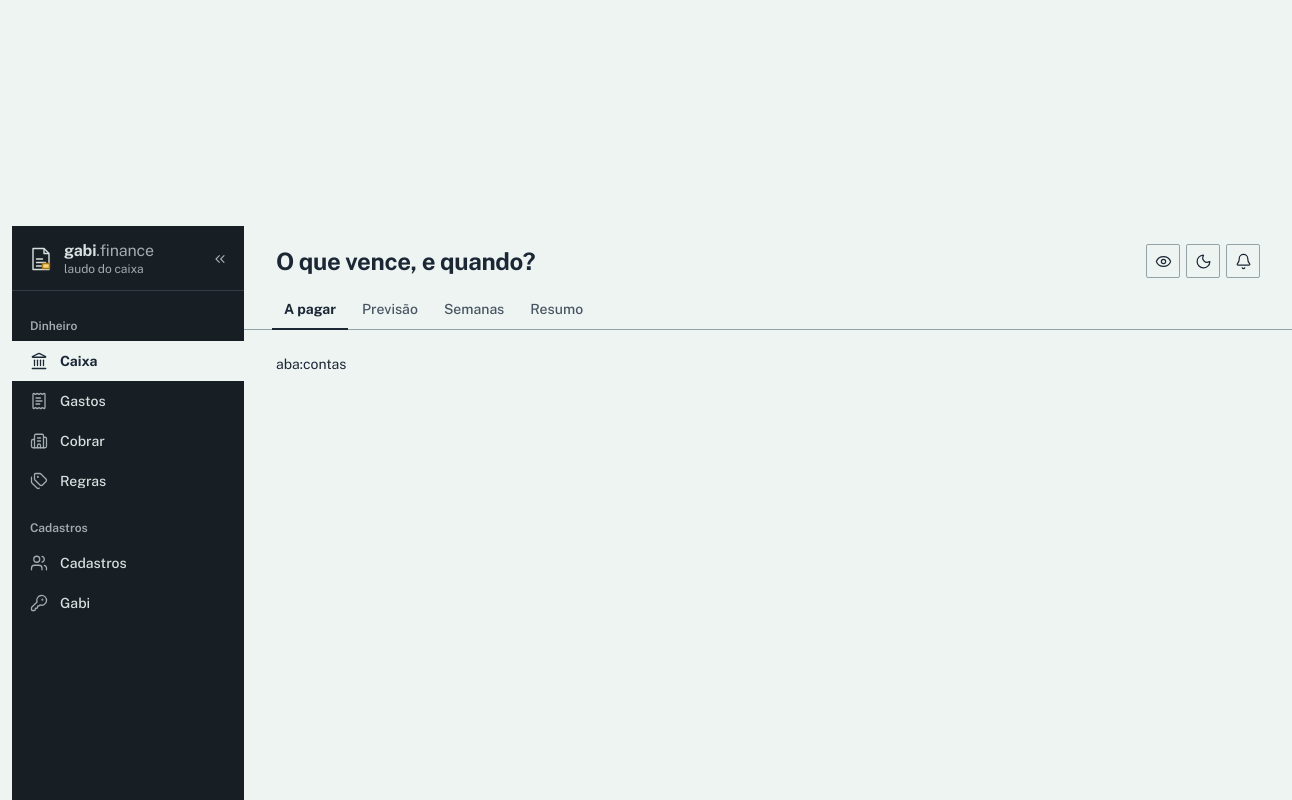
Test case: Shell mostra a aba salva da área nova ao trocar de área
(page scrolled)
Click the button "Gastos" at (128, 401), box [12,381,244,421]
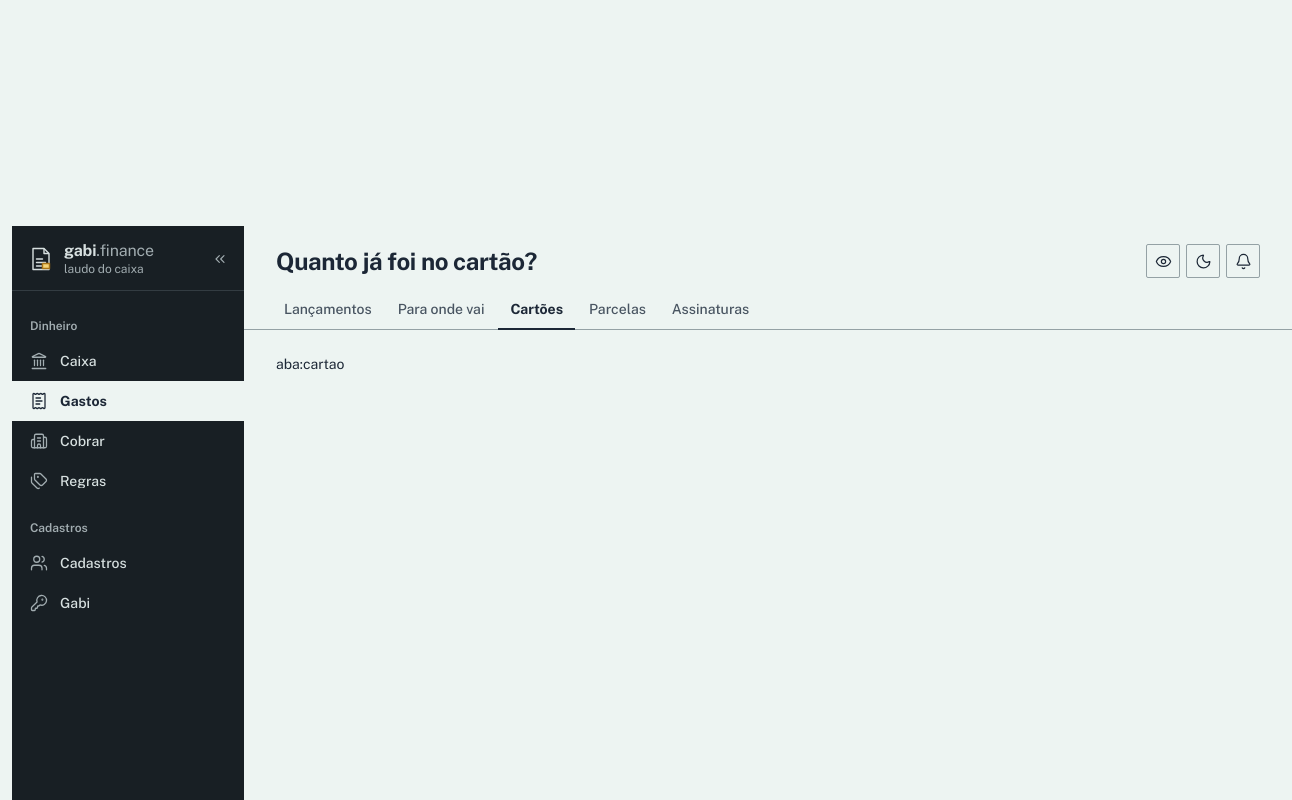
Now the text "aba:cartao" is shown, box [276,356,344,372]
